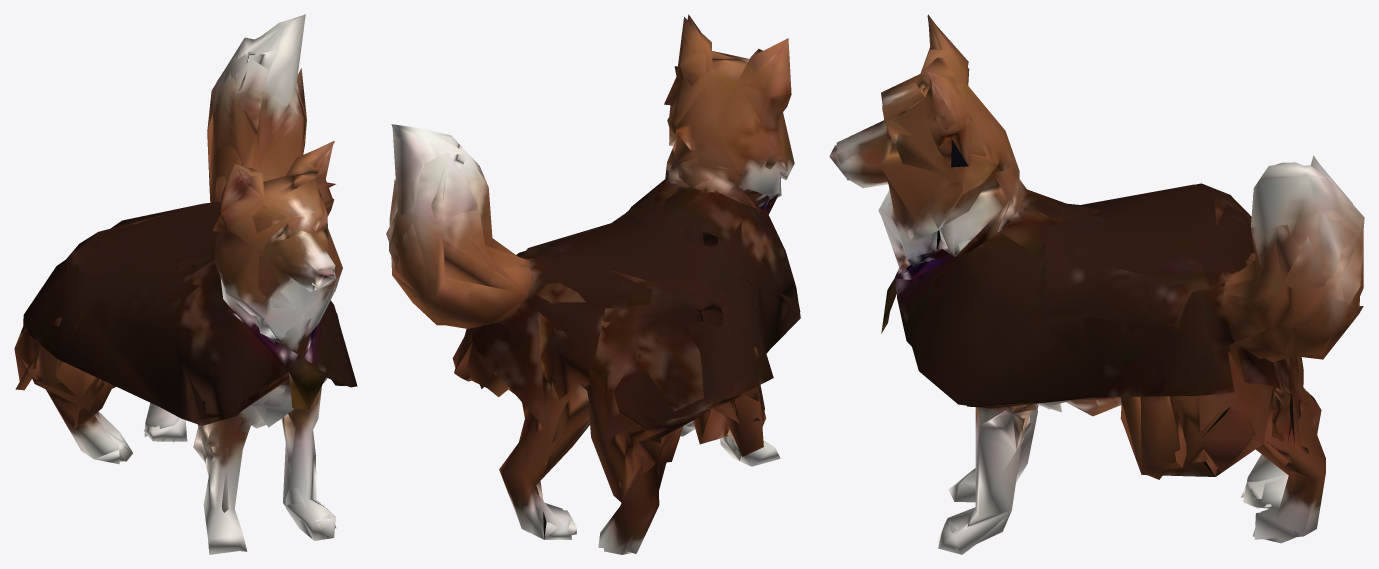
The model's file is detail_12_lo2.glb.
3 views of the same model, side by side, from view 1: azimuth 30°, elevation 25°; view 2: azimuth 150°, elevation 25°; view 3: azimuth 270°, elevation 25° (orthographic). The views are drawn at different scales.
Parts seen in each view (by area): view 1: Mesh_0.001; view 2: Mesh_0.001; view 3: Mesh_0.001.
Boxes of the visible parts, left/top/right/bottom form: Mesh_0.001: left=14, top=14, right=357, bottom=554; Mesh_0.001: left=386, top=14, right=800, bottom=554; Mesh_0.001: left=829, top=14, right=1364, bottom=554.
Size of the model in its own units: 0.8224 by 0.9623 by 0.9813.
1 material, 1 textured.
